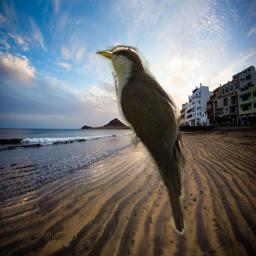Cuckoo: (95, 45, 190, 237)
